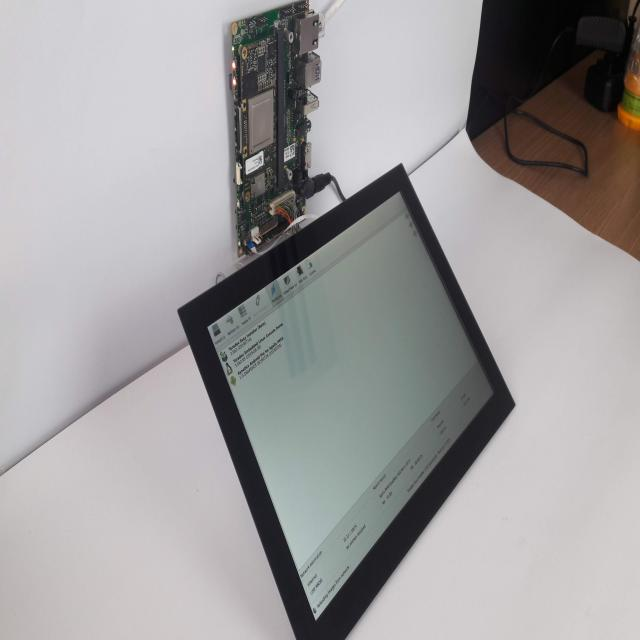som: (238, 31, 288, 203)
